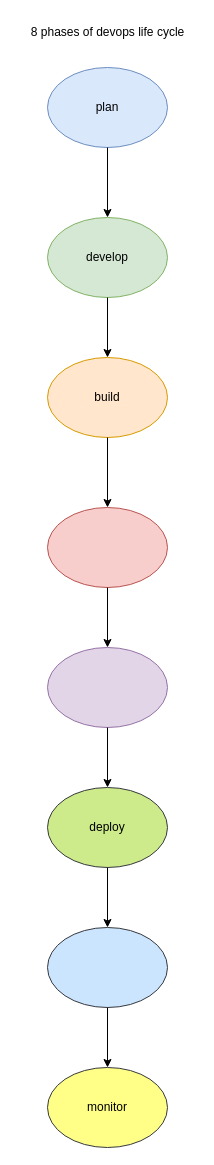
Some shapes in this 214 by 1165 pixel diagram are drawn without their labels. The shapes that lost their labels are listed below. From the top down, each one's box as (x1, y1, x2, y2) in pixels, then its label:
(46, 506, 168, 588): test
(46, 646, 168, 728): release
(46, 926, 168, 1008): operate
